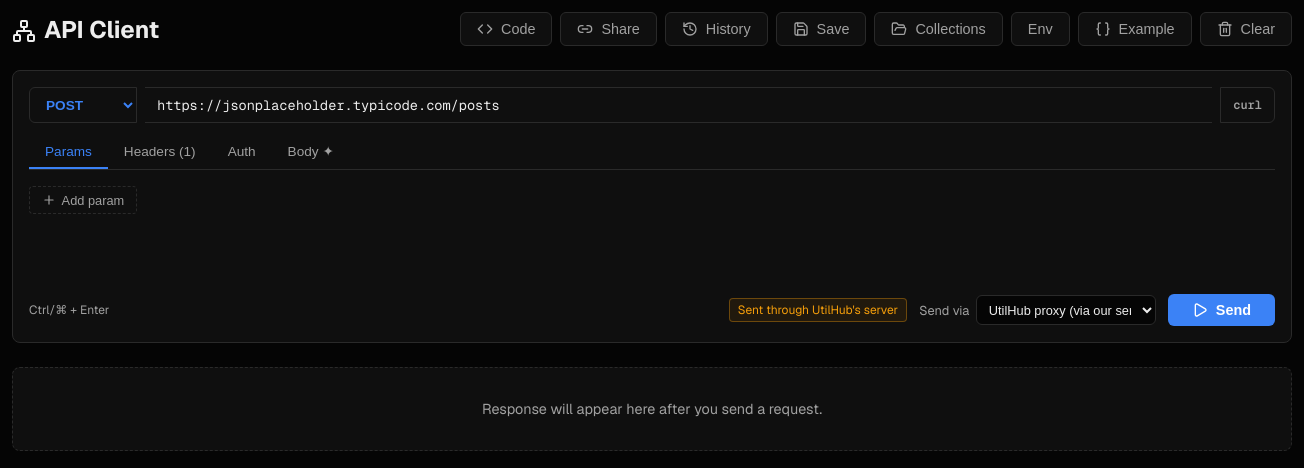
CurlTester › clears form on clear
This screenshot has width=1304, height=468.
Step 1. Click the button titled "Clear all" → (1246, 29), box left=1200, top=12, right=1292, bottom=46
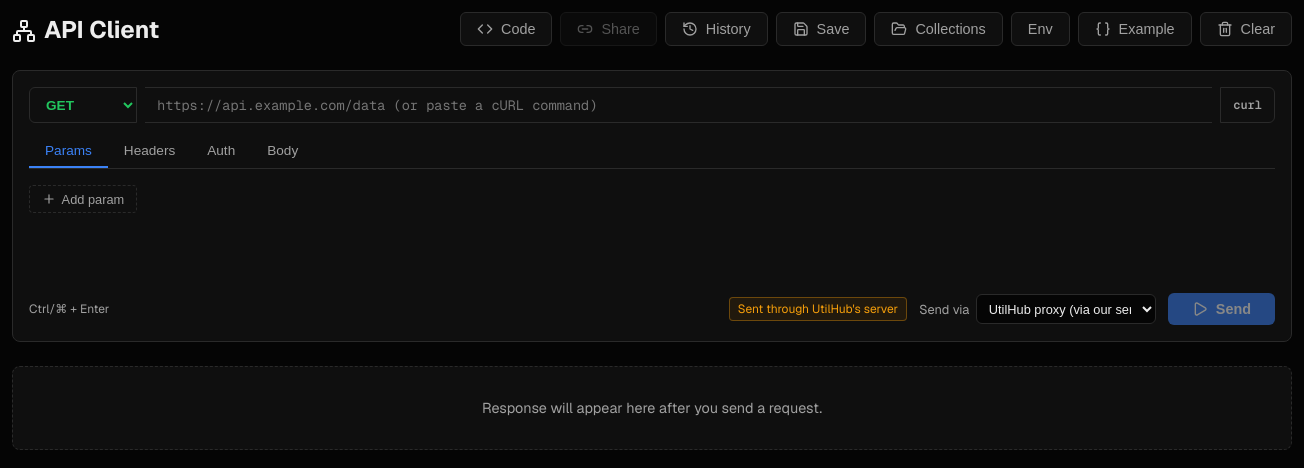
Check: the field named "Request URL" is empty, box left=145, top=87, right=1212, bottom=123
